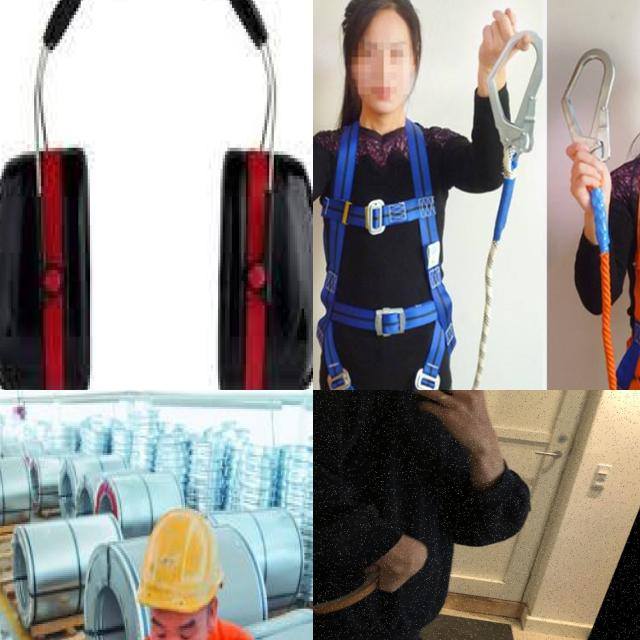Ear-protection: (0, 0, 313, 390)
Harness: (313, 122, 451, 390)
No_Ear-Protection: (207, 598, 218, 629)
No_Glasses: (150, 607, 211, 640)
head_helmet: (140, 511, 223, 612)
